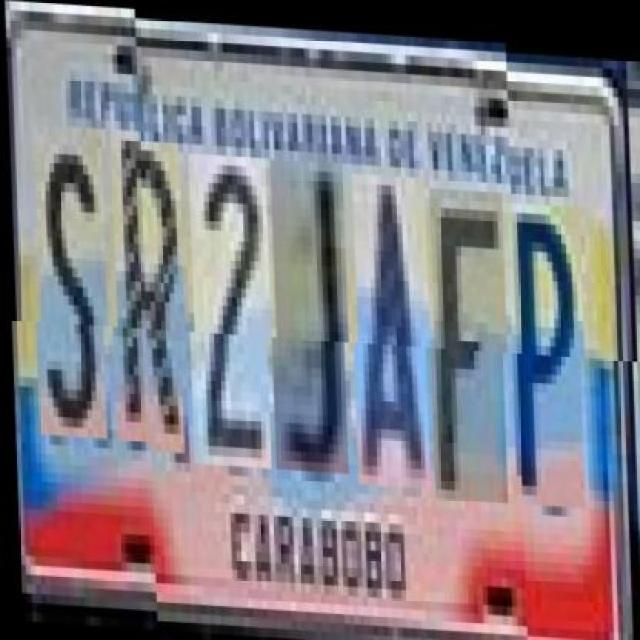2: (187, 150, 273, 465)
a: (351, 169, 432, 483)
f: (428, 182, 509, 496)
j: (268, 156, 350, 470)
p: (505, 186, 586, 491)
r: (109, 138, 186, 452)
s: (32, 134, 110, 448)
